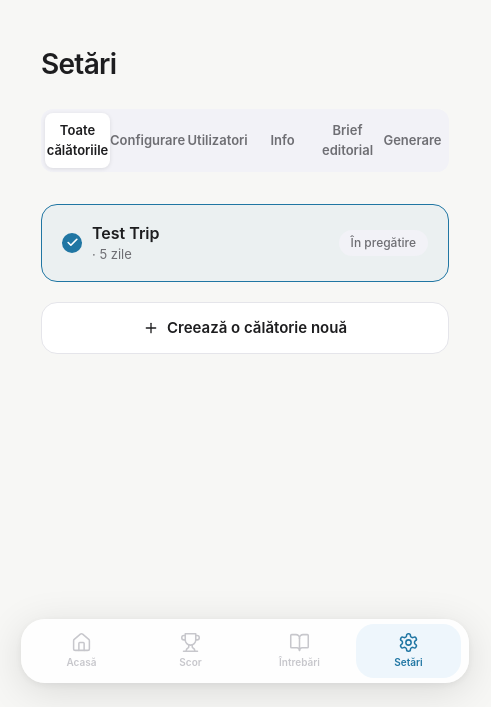
it: R9: Generare tab -- starting generation › a failed generation shows the failure reason, and the button remains usable for retry
This screenshot has width=491, height=707.
Step 1. Click the button "Generare" → (412, 140), box [380,113,445,168]
(page scrolled)
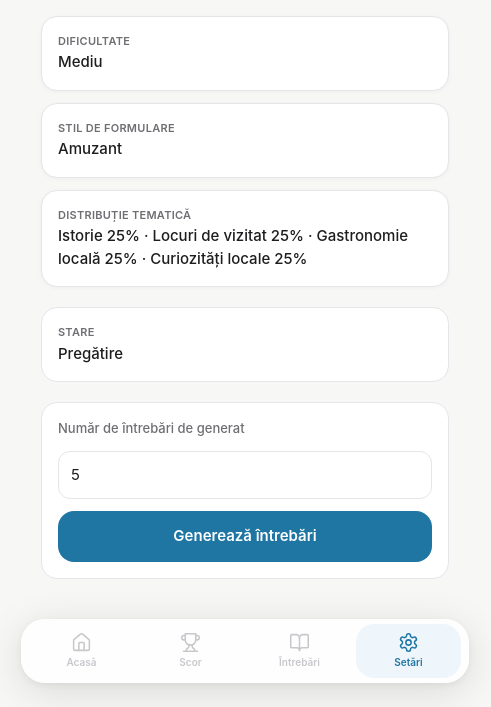
Step 2. Click the button "Generează întrebări" → (245, 536), box [58,511,432,562]
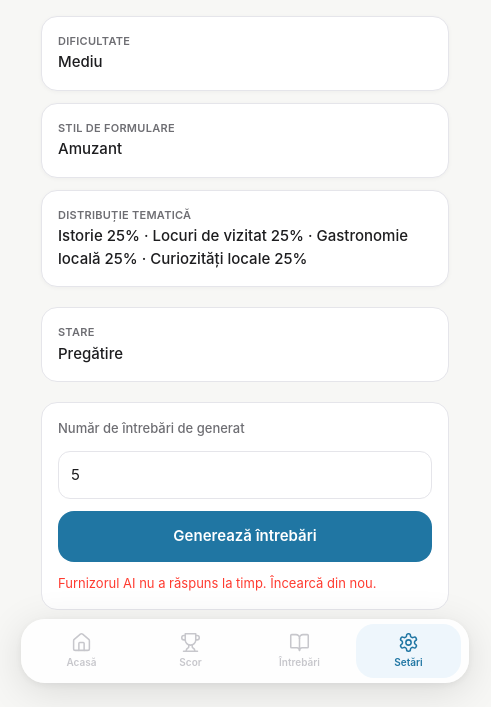
Now the button "Generează întrebări" is shown, box [58,511,432,562]
Now the text "Furnizorul AI nu a răspuns la timp. Încearcă din nou." is shown, box [58,574,432,593]
